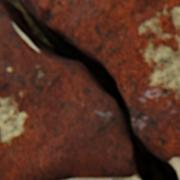broken_brick: (27, 0, 179, 161), (0, 2, 137, 179)
crack: (0, 0, 179, 179)
